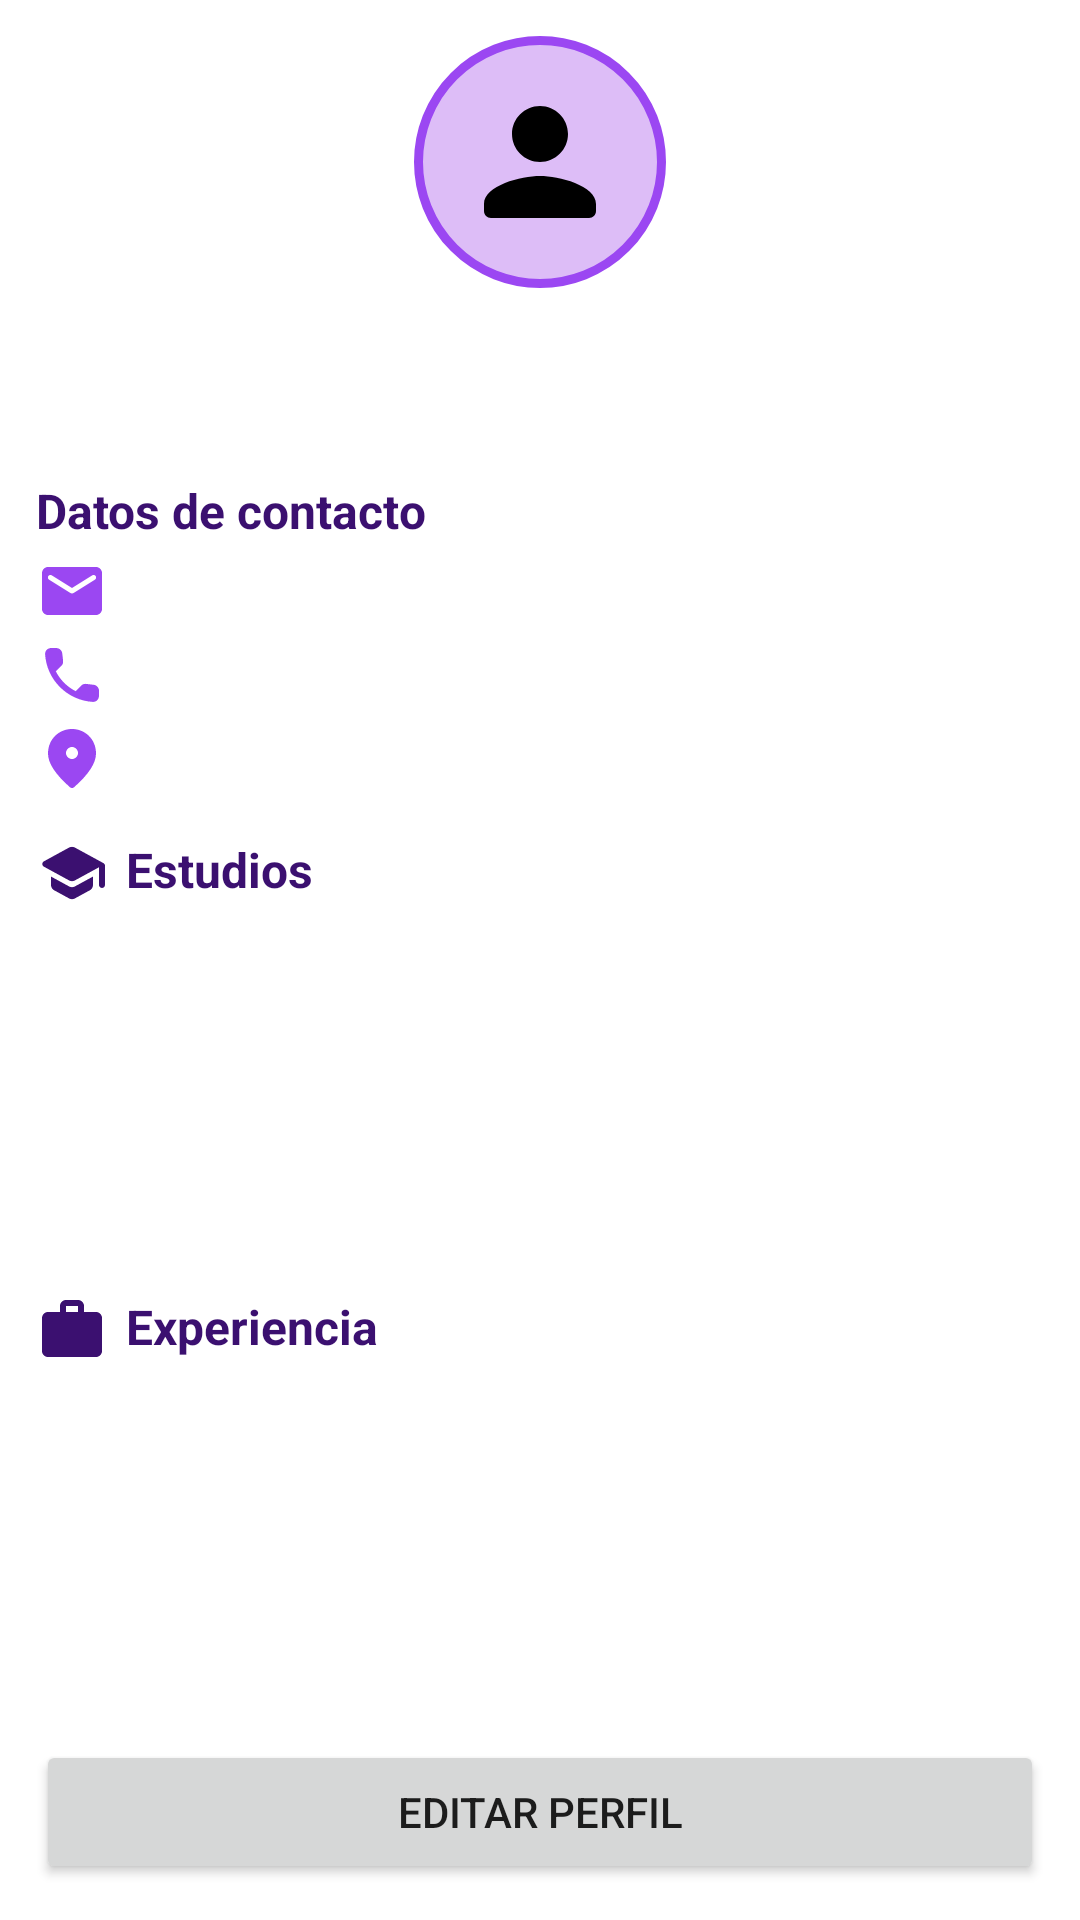

Named icons in this screenshot (1080×1920) and their centers, point (x, y):
Perfil: point (540, 162)
